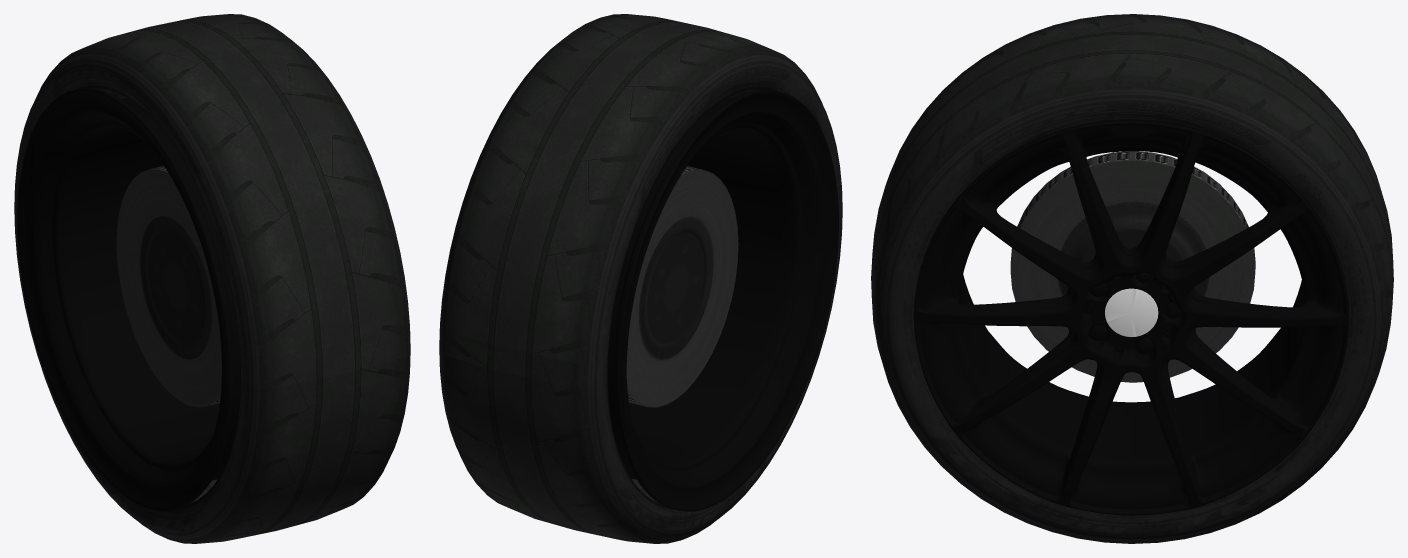
Rendered from Police_Mustang_Wheel.glb.
3 views of the same model, side by side, from view 1: azimuth 30°, elevation 25°; view 2: azimuth 150°, elevation 25°; view 3: azimuth 270°, elevation 25° (orthographic).
Visible parts, largest first — view 1: Object_82.001; view 2: Object_82.001; view 3: Object_82.001.
Part boxes in pixels (x1=…): Object_82.001: x1=14, y1=14, x2=410, y2=543; Object_82.001: x1=439, y1=14, x2=842, y2=543; Object_82.001: x1=871, y1=14, x2=1393, y2=543.
Size of the model in its own units: 0.2607 by 0.6519 by 0.6519.
Materials: 7 (3 with a texture image).
